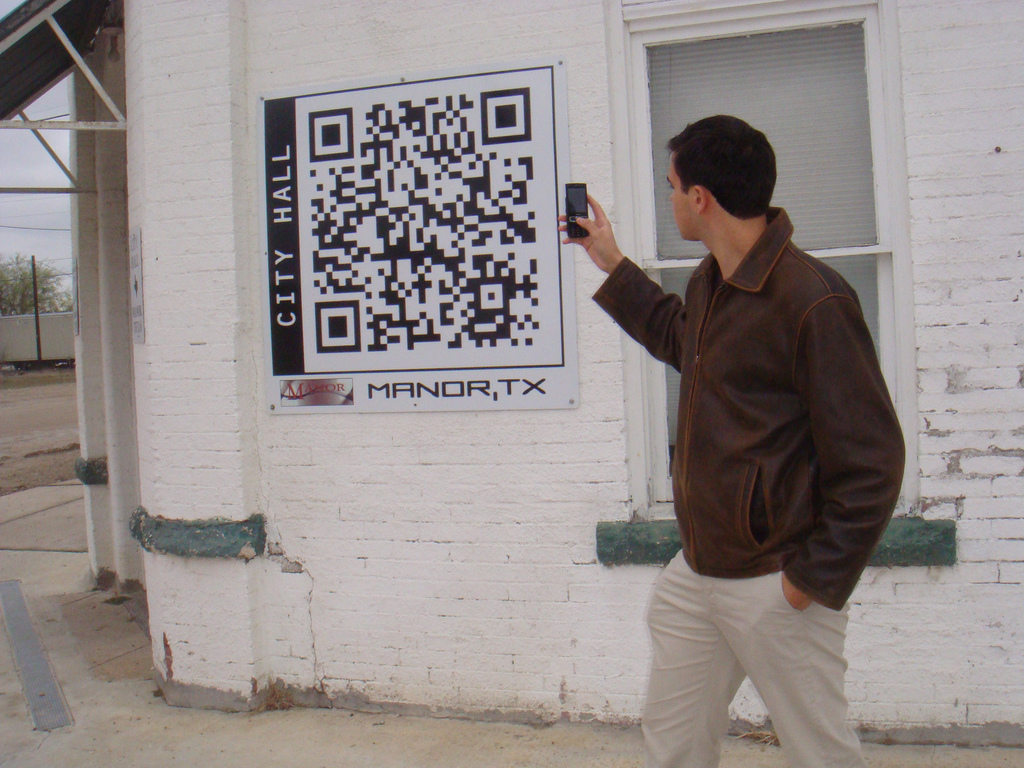QR-CODE: (309, 87, 539, 353)
